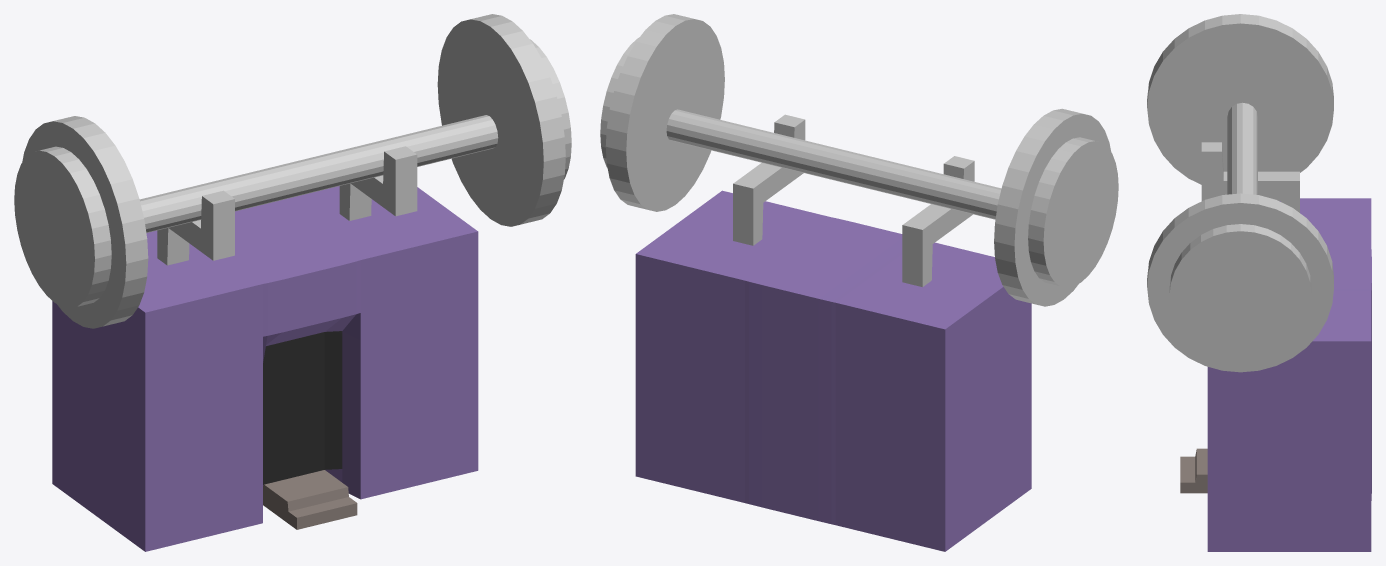
The model's file is luta.fbx.
3 renders of one model, left to right at view 1: azimuth 30°, elevation 25°; view 2: azimuth 150°, elevation 25°; view 3: azimuth 270°, elevation 25°, orthographic. The views are drawn at different scales.
Visible parts, largest first — view 1: Cube.006, Circle.002, Cylinder.001, Cube.007; view 2: Cube.006, Circle.002, Cylinder.001, Cube.007; view 3: Circle.002, Cube.006, Cylinder.001, Cube.007.
Part boxes in pixels (x1=…): Cube.006: x1=52, y1=186, x2=478, y2=551; Circle.002: x1=14, y1=14, x2=571, y2=328; Cylinder.001: x1=139, y1=115, x2=498, y2=232; Cube.007: x1=157, y1=146, x2=417, y2=265; Cube.006: x1=635, y1=190, x2=1031, y2=551; Circle.002: x1=600, y1=14, x2=1118, y2=306; Cylinder.001: x1=666, y1=109, x2=1001, y2=219; Cube.007: x1=733, y1=114, x2=974, y2=286; Circle.002: x1=1147, y1=14, x2=1333, y2=372; Cube.006: x1=1180, y1=198, x2=1371, y2=551; Cylinder.001: x1=1227, y1=102, x2=1257, y2=194; Cube.007: x1=1201, y1=142, x2=1299, y2=212.
Bounding box in the file's own units: 786 × 666 × 364.
Materials: 4 (1 with a texture image).
